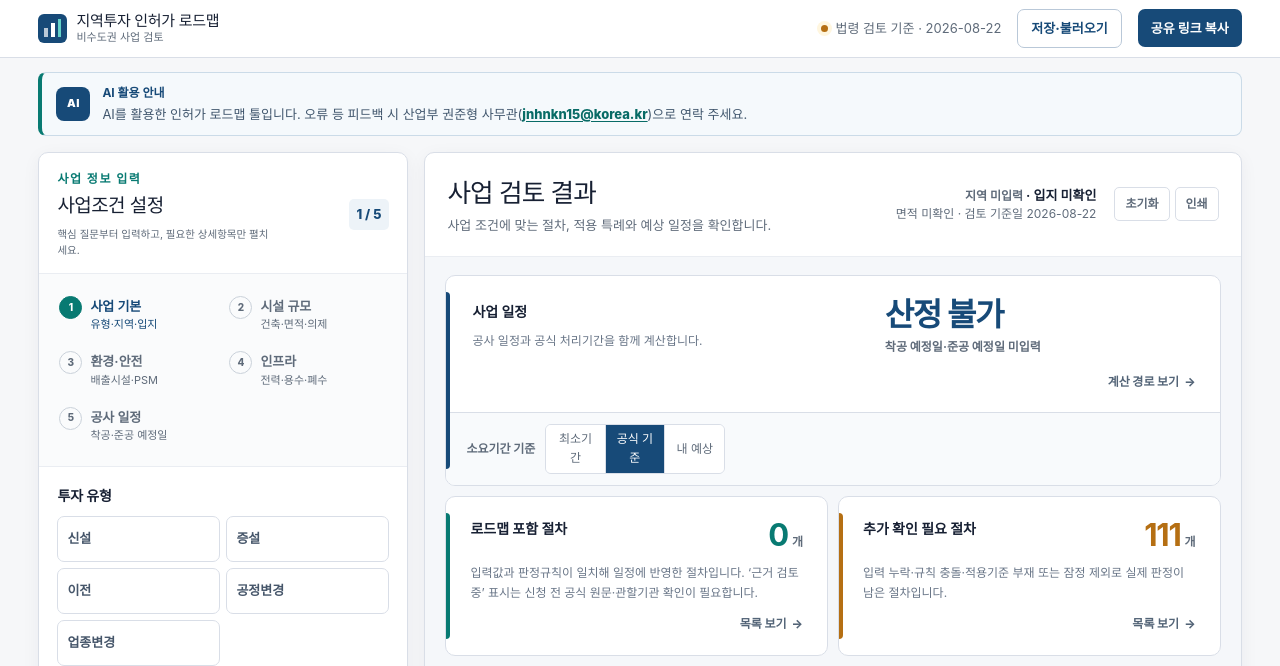
Test: dashboard UI › selects the portable code when clipboard access fails
The width and height of the screenshot is (1280, 666).
Click the button with aria-label "입력 코드 저장·불러오기".
click(1069, 28)  # box [1017,9,1122,48]
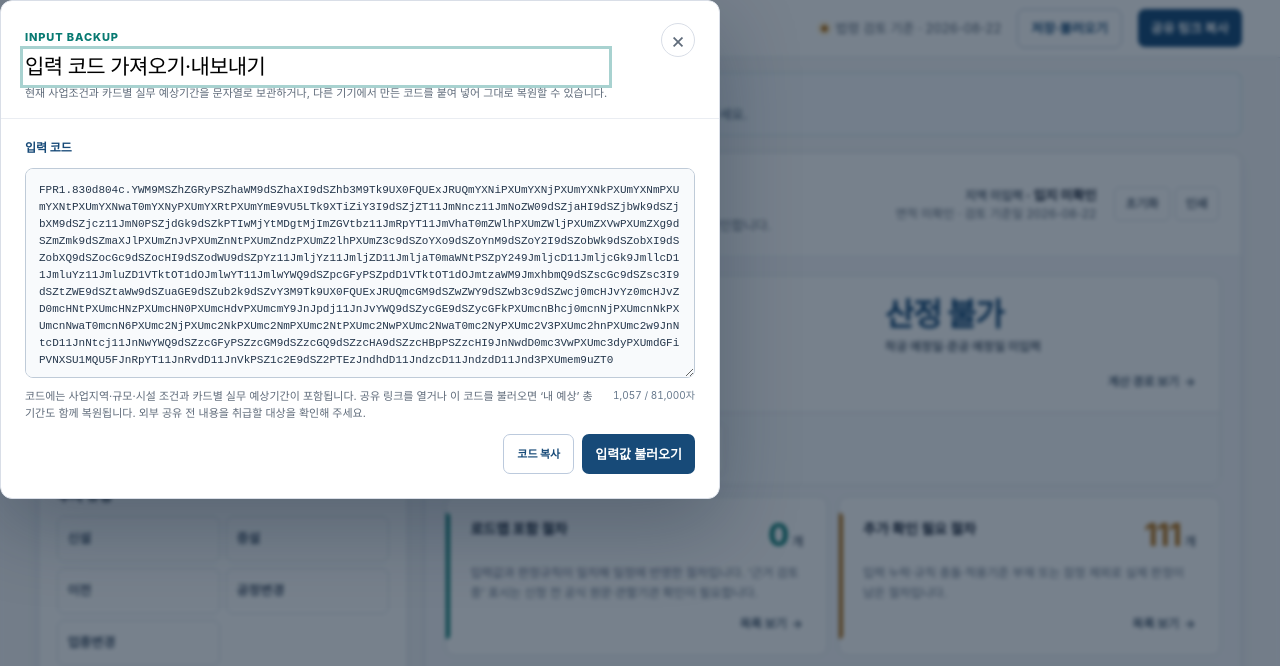
Click the button "코드 복사".
click(539, 454)  # box [503,434,574,474]
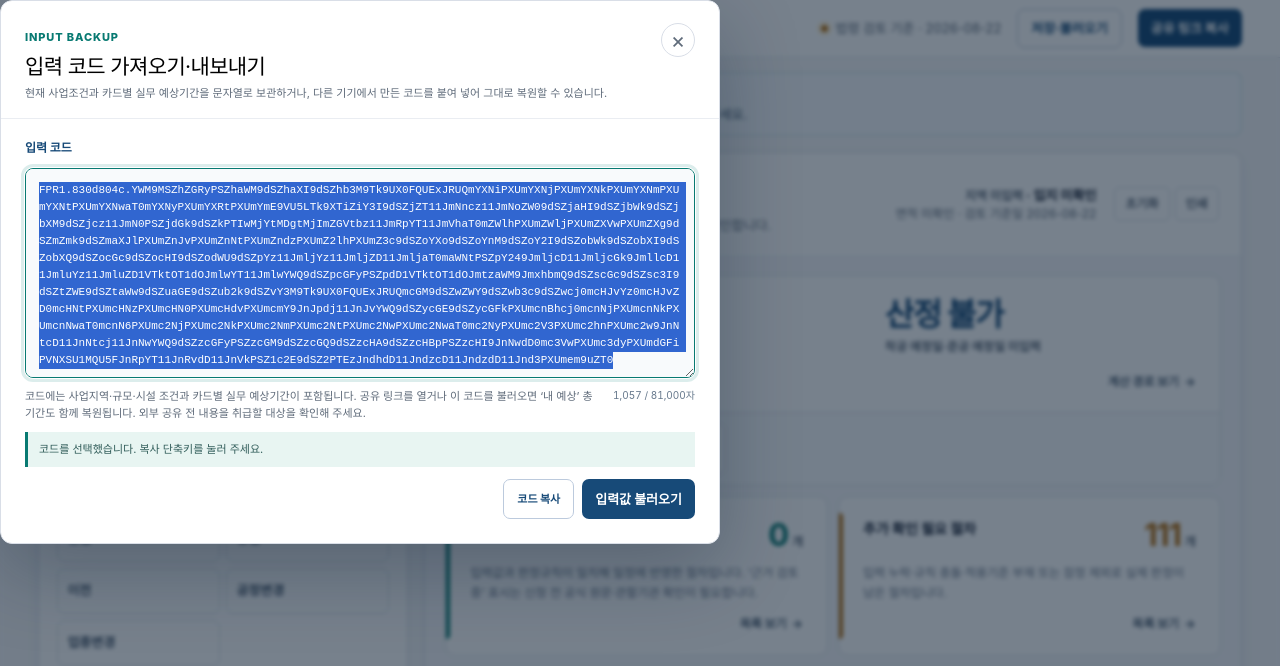
expect the message shows "코드를 선택": met, box [39,442,263,456]
